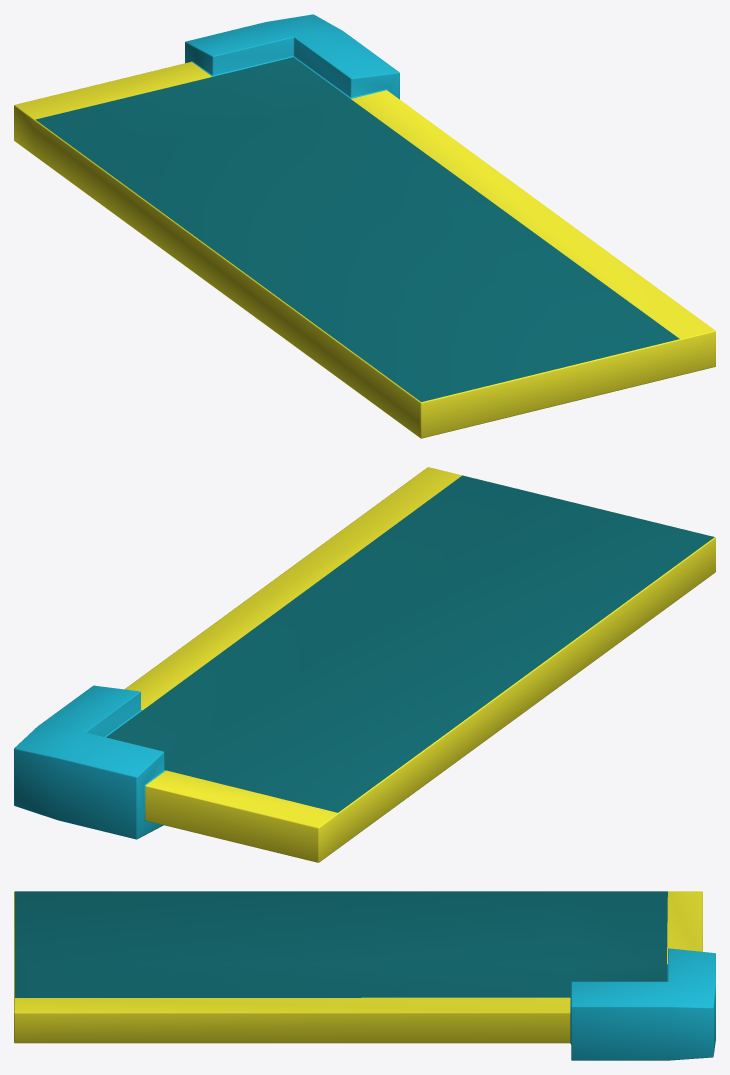
File: SM_Table4.fbx
3 renders of one model, top to bottom at view 1: azimuth 30°, elevation 25°; view 2: azimuth 150°, elevation 25°; view 3: azimuth 270°, elevation 25°, orthographic. The views are drawn at different scales.
Parts seen in each view (by area): view 1: SM_Table4; view 2: SM_Table4; view 3: SM_Table4.
Boxes of the visible parts, x1,y1,x2,y2 form: SM_Table4: [14, 14, 715, 438]; SM_Table4: [14, 467, 715, 862]; SM_Table4: [14, 891, 715, 1060].
Bounding box in the file's own units: 13.13 × 30.57 × 3.08.
1 material, 1 textured.
